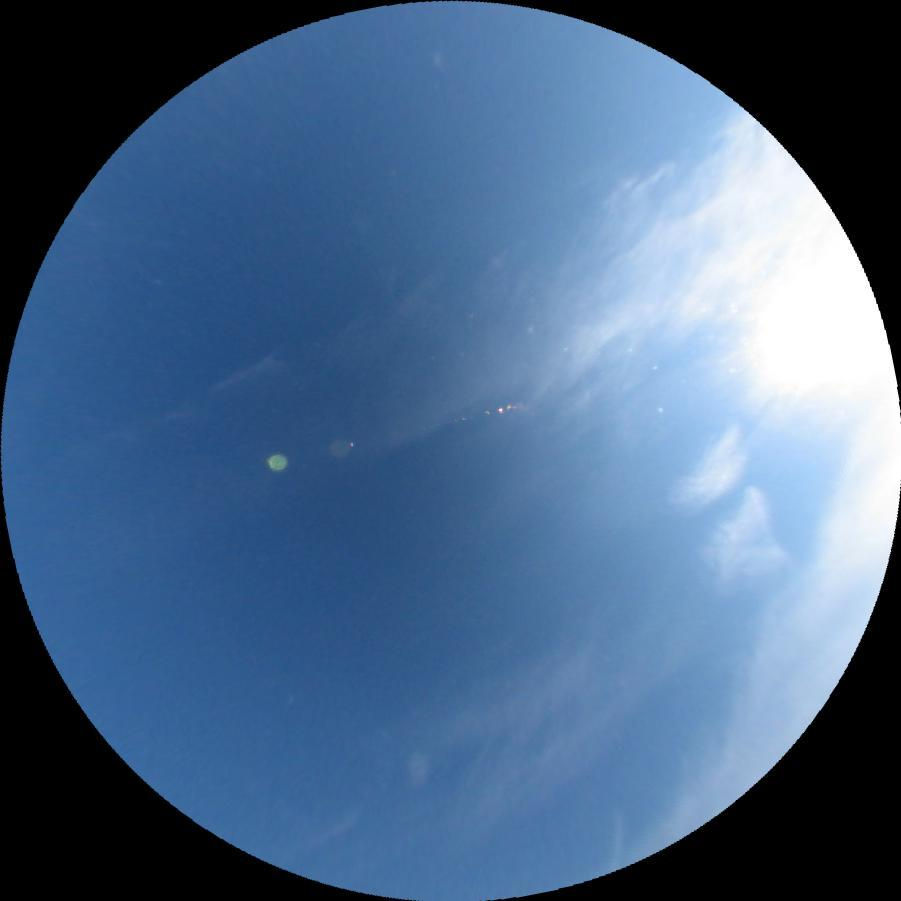contrail veryold: (349, 152, 841, 483), (650, 424, 798, 611)
